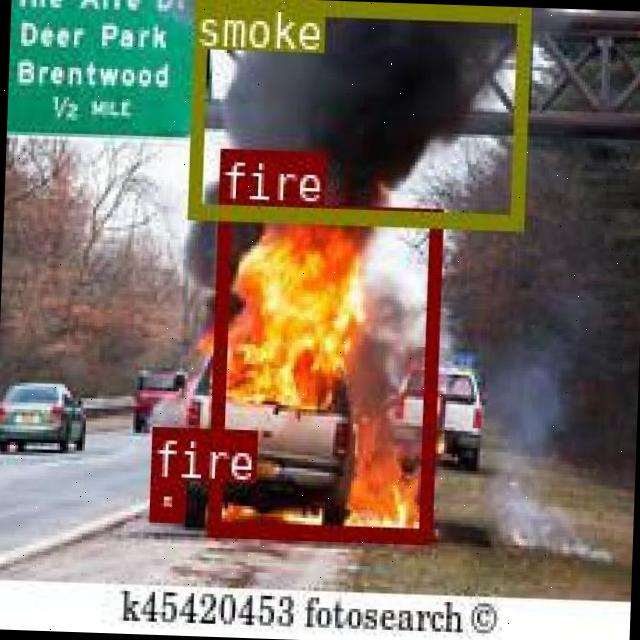fire: (207, 200, 440, 538), (147, 477, 181, 517)
smoke: (185, 0, 527, 228)
